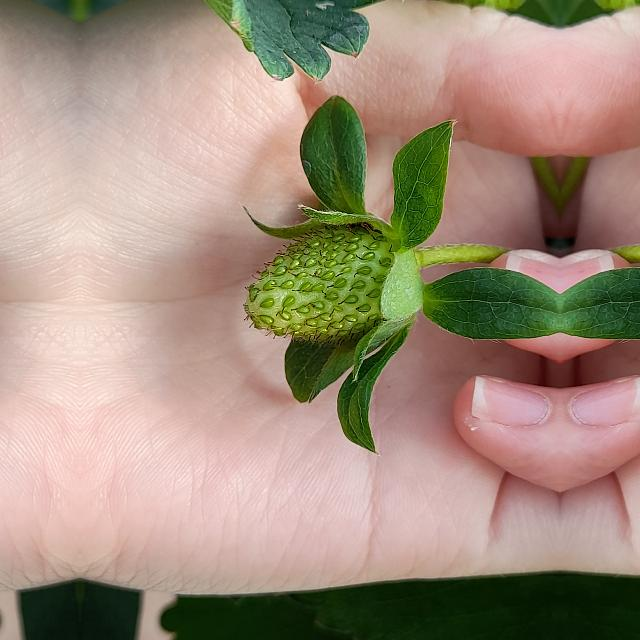Health_25: (242, 225, 398, 347)
